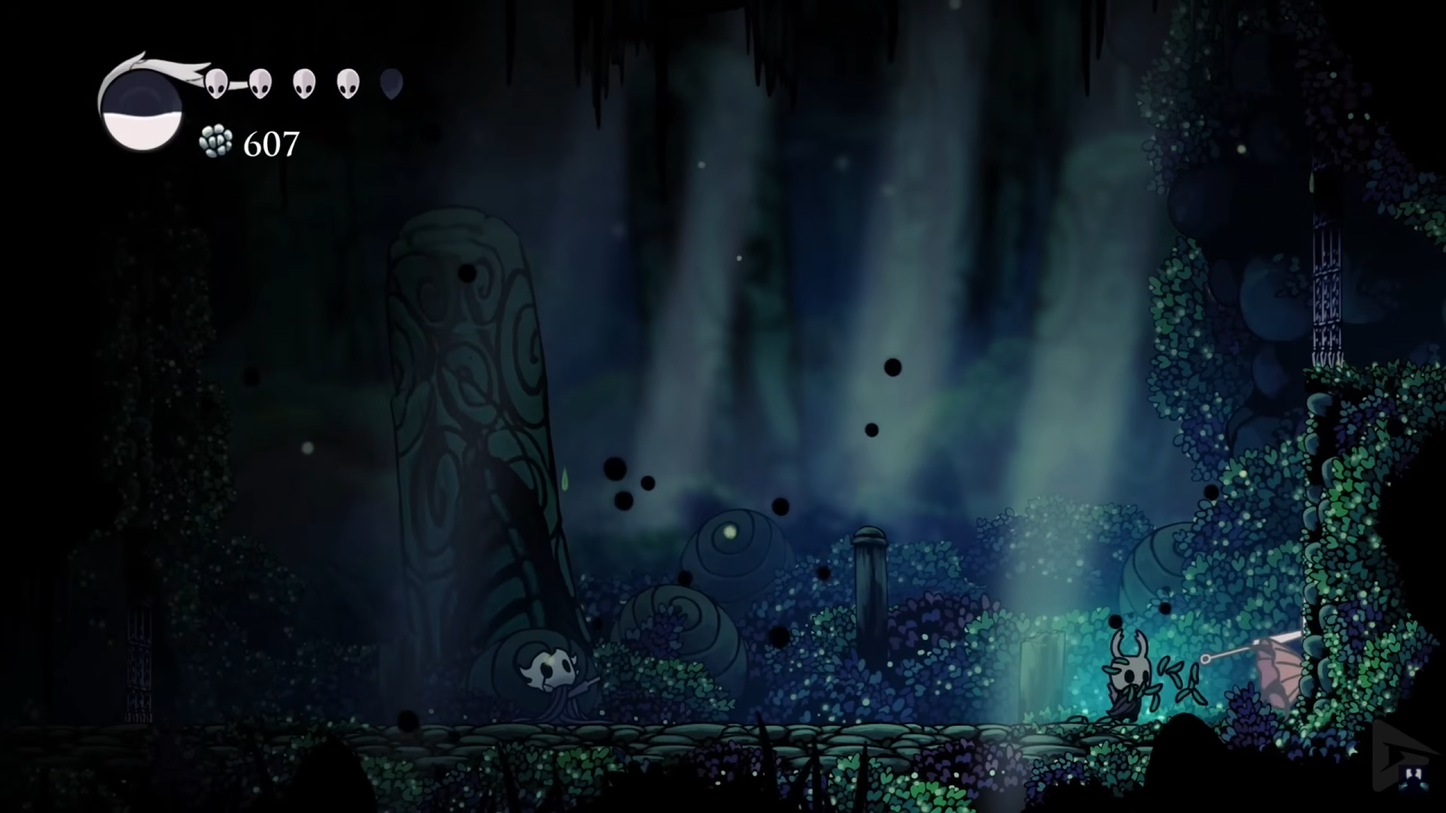HK: (1103, 624, 1157, 724)
